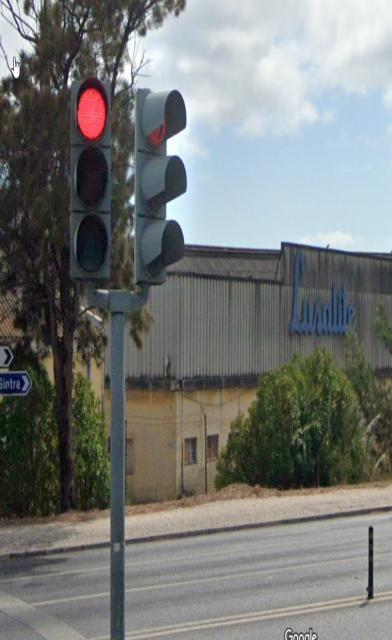red_light: (135, 90, 186, 283), (69, 76, 112, 279)
